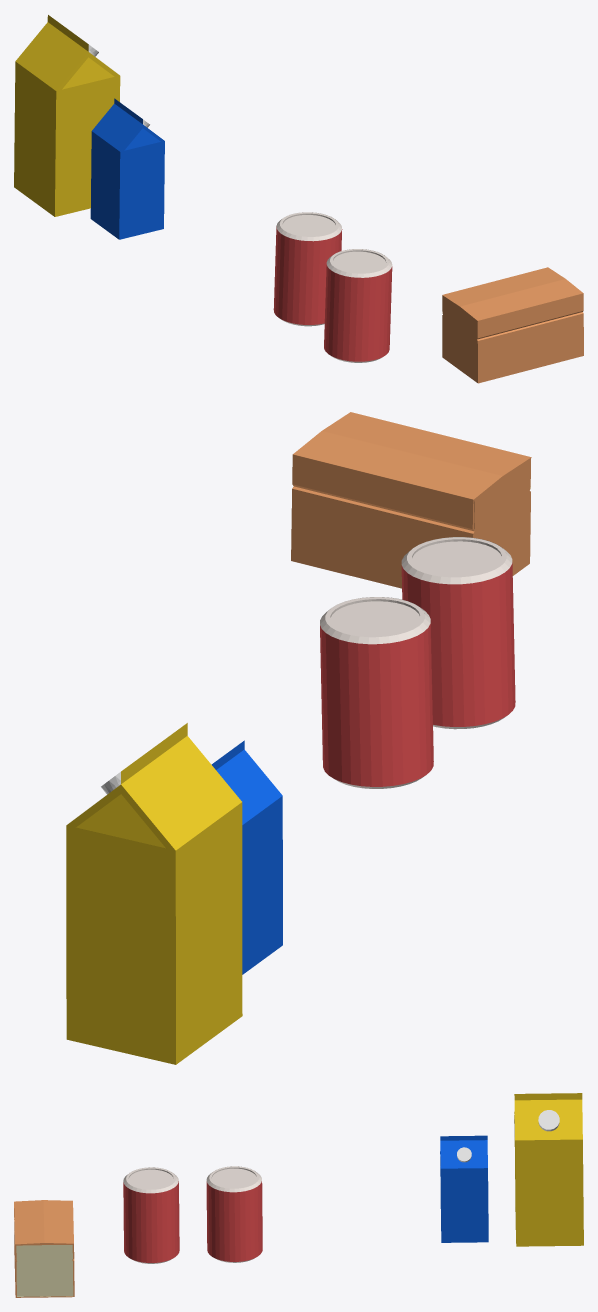
Rendered from FixedOriginFood.fbx.
The picture shows the model from 3 angles, top to bottom: view 1: azimuth 30°, elevation 25°; view 2: azimuth 150°, elevation 25°; view 3: azimuth 270°, elevation 25°; orthographic projection. The views are drawn at different scales.
Parts seen in each view (by area): view 1: Milk, Bread.003, Milk.001, Cylinder.001, Cylinder.002; view 2: Milk, Bread.003, Cylinder.002, Cylinder.001, Milk.001; view 3: Milk, Bread.003, Milk.001, Cylinder.001, Cylinder.002.
Boxes of the visible parts, x1,y1,x2,y2 form: Milk: (14,15,120,216); Bread.003: (442,267,583,383); Milk.001: (90,98,164,239); Cylinder.001: (324,249,392,362); Cylinder.002: (273,212,342,326); Milk: (66,723,242,1064); Bread.003: (291,412,531,588); Cylinder.002: (320,597,433,788); Cylinder.001: (401,537,515,729); Milk.001: (211,740,282,974); Milk: (514,1093,583,1246); Bread.003: (14,1200,74,1297); Milk.001: (440,1135,488,1242); Cylinder.001: (123,1167,179,1263); Cylinder.002: (206,1166,262,1262).
Bounding box in the file's own units: 69.53 × 47.27 × 174.
